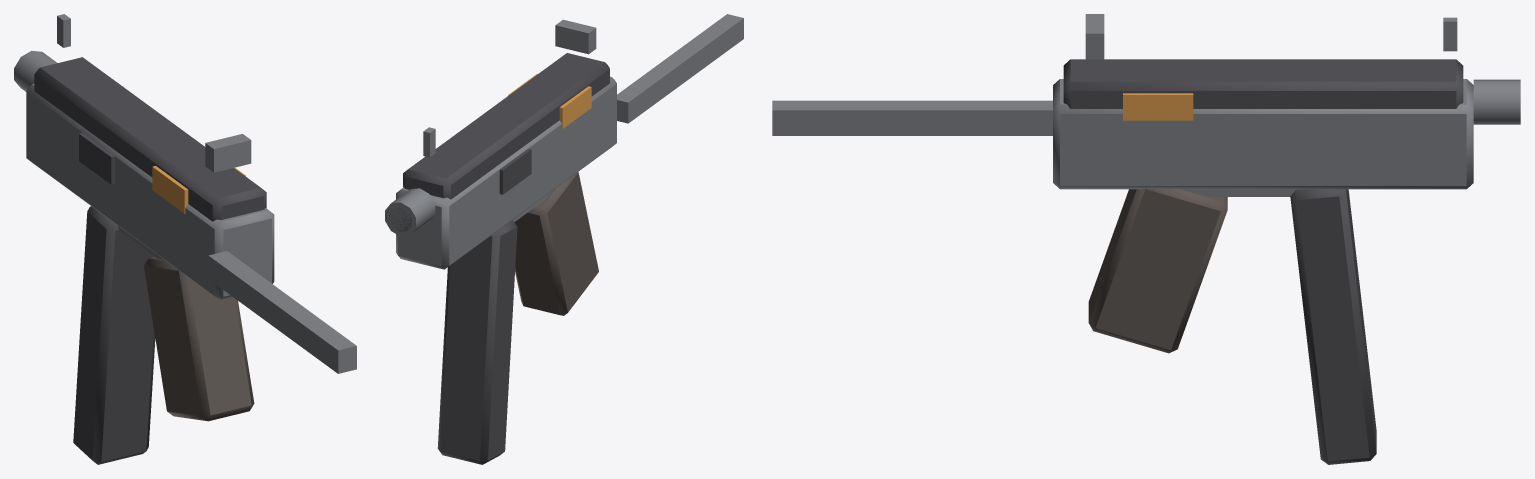
Rendered from hornet.glb.
3 views of the same model, side by side, from view 1: azimuth 30°, elevation 25°; view 2: azimuth 150°, elevation 25°; view 3: azimuth 270°, elevation 25° (orthographic). The views are drawn at different scales.
Parts seen in each view (by area): view 1: wpn_hornet; view 2: wpn_hornet; view 3: wpn_hornet.
Part boxes in pixels (<box>): wpn_hornet: <box>14,14,356,464</box>; wpn_hornet: <box>385,14,743,464</box>; wpn_hornet: <box>772,14,1520,464</box>.
Size of what is drawn, in the model's own units: 0.0373 by 0.2046 by 0.32.
